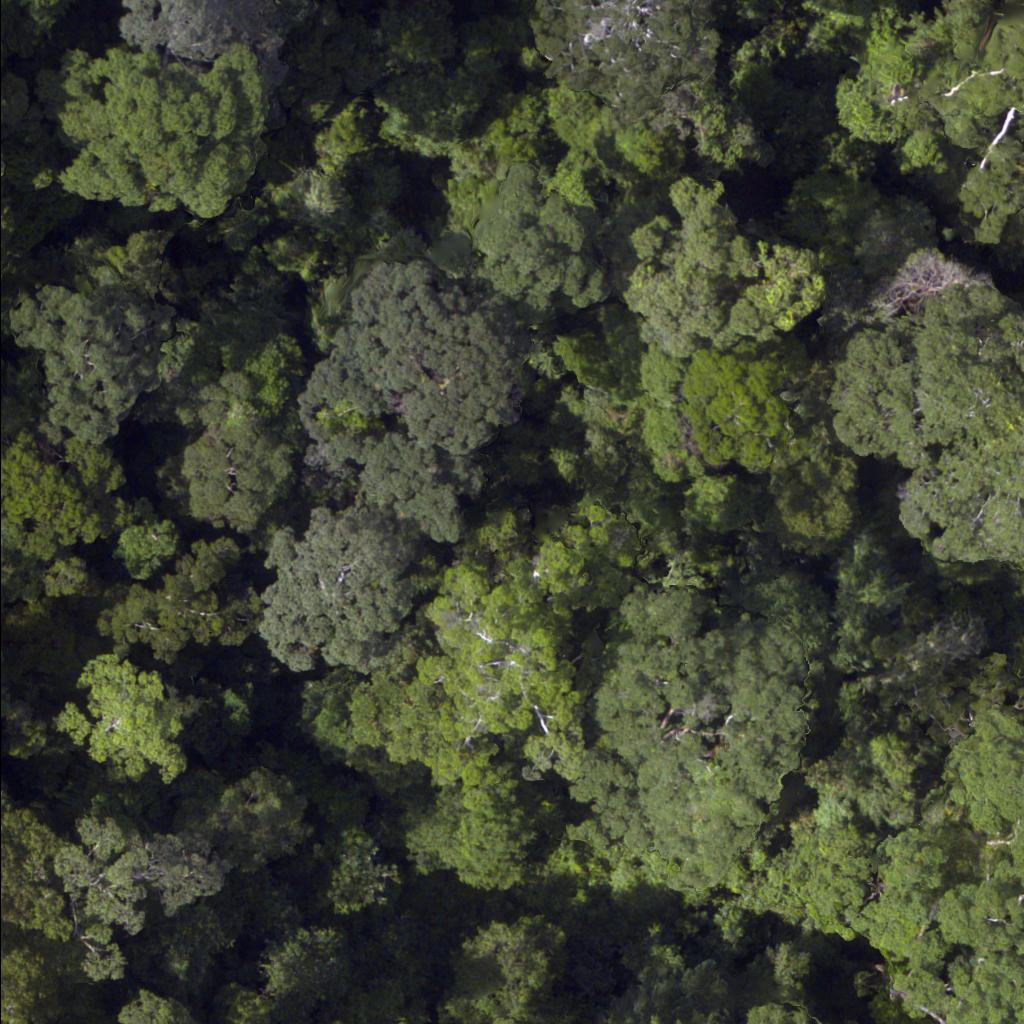crown: (782, 732, 1023, 1023), (578, 595, 807, 887), (305, 269, 515, 536), (836, 266, 1023, 551), (415, 563, 585, 787), (57, 822, 225, 976), (265, 515, 410, 671), (63, 671, 193, 784), (458, 927, 552, 1023), (752, 1007, 814, 1023)
